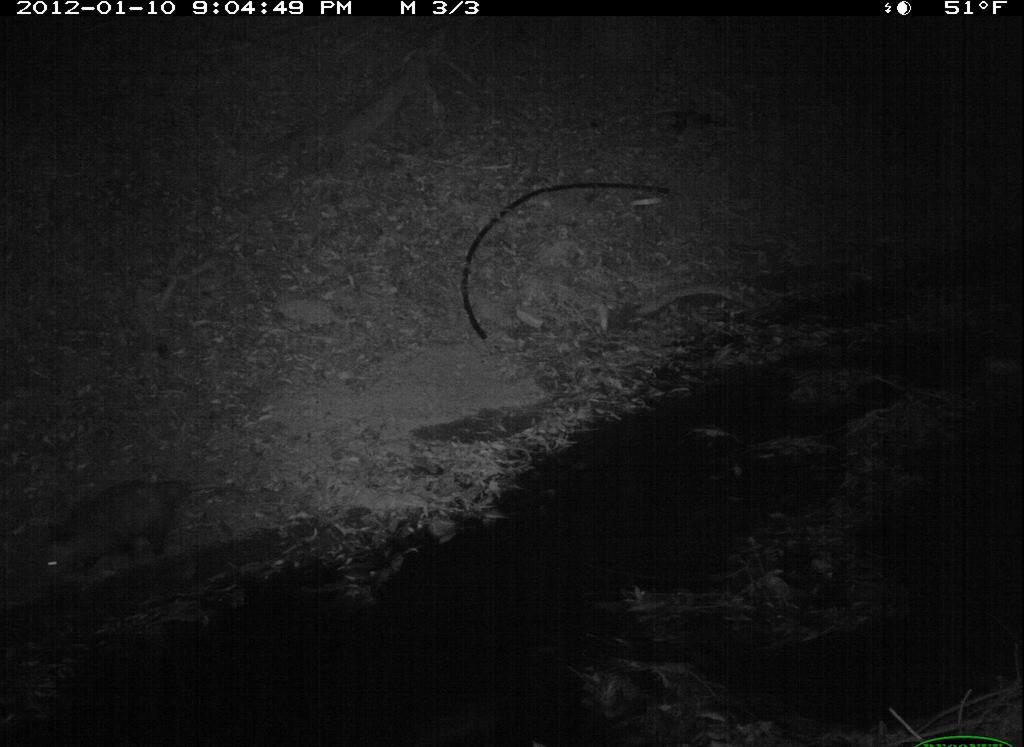opossum: (33, 477, 219, 598)
